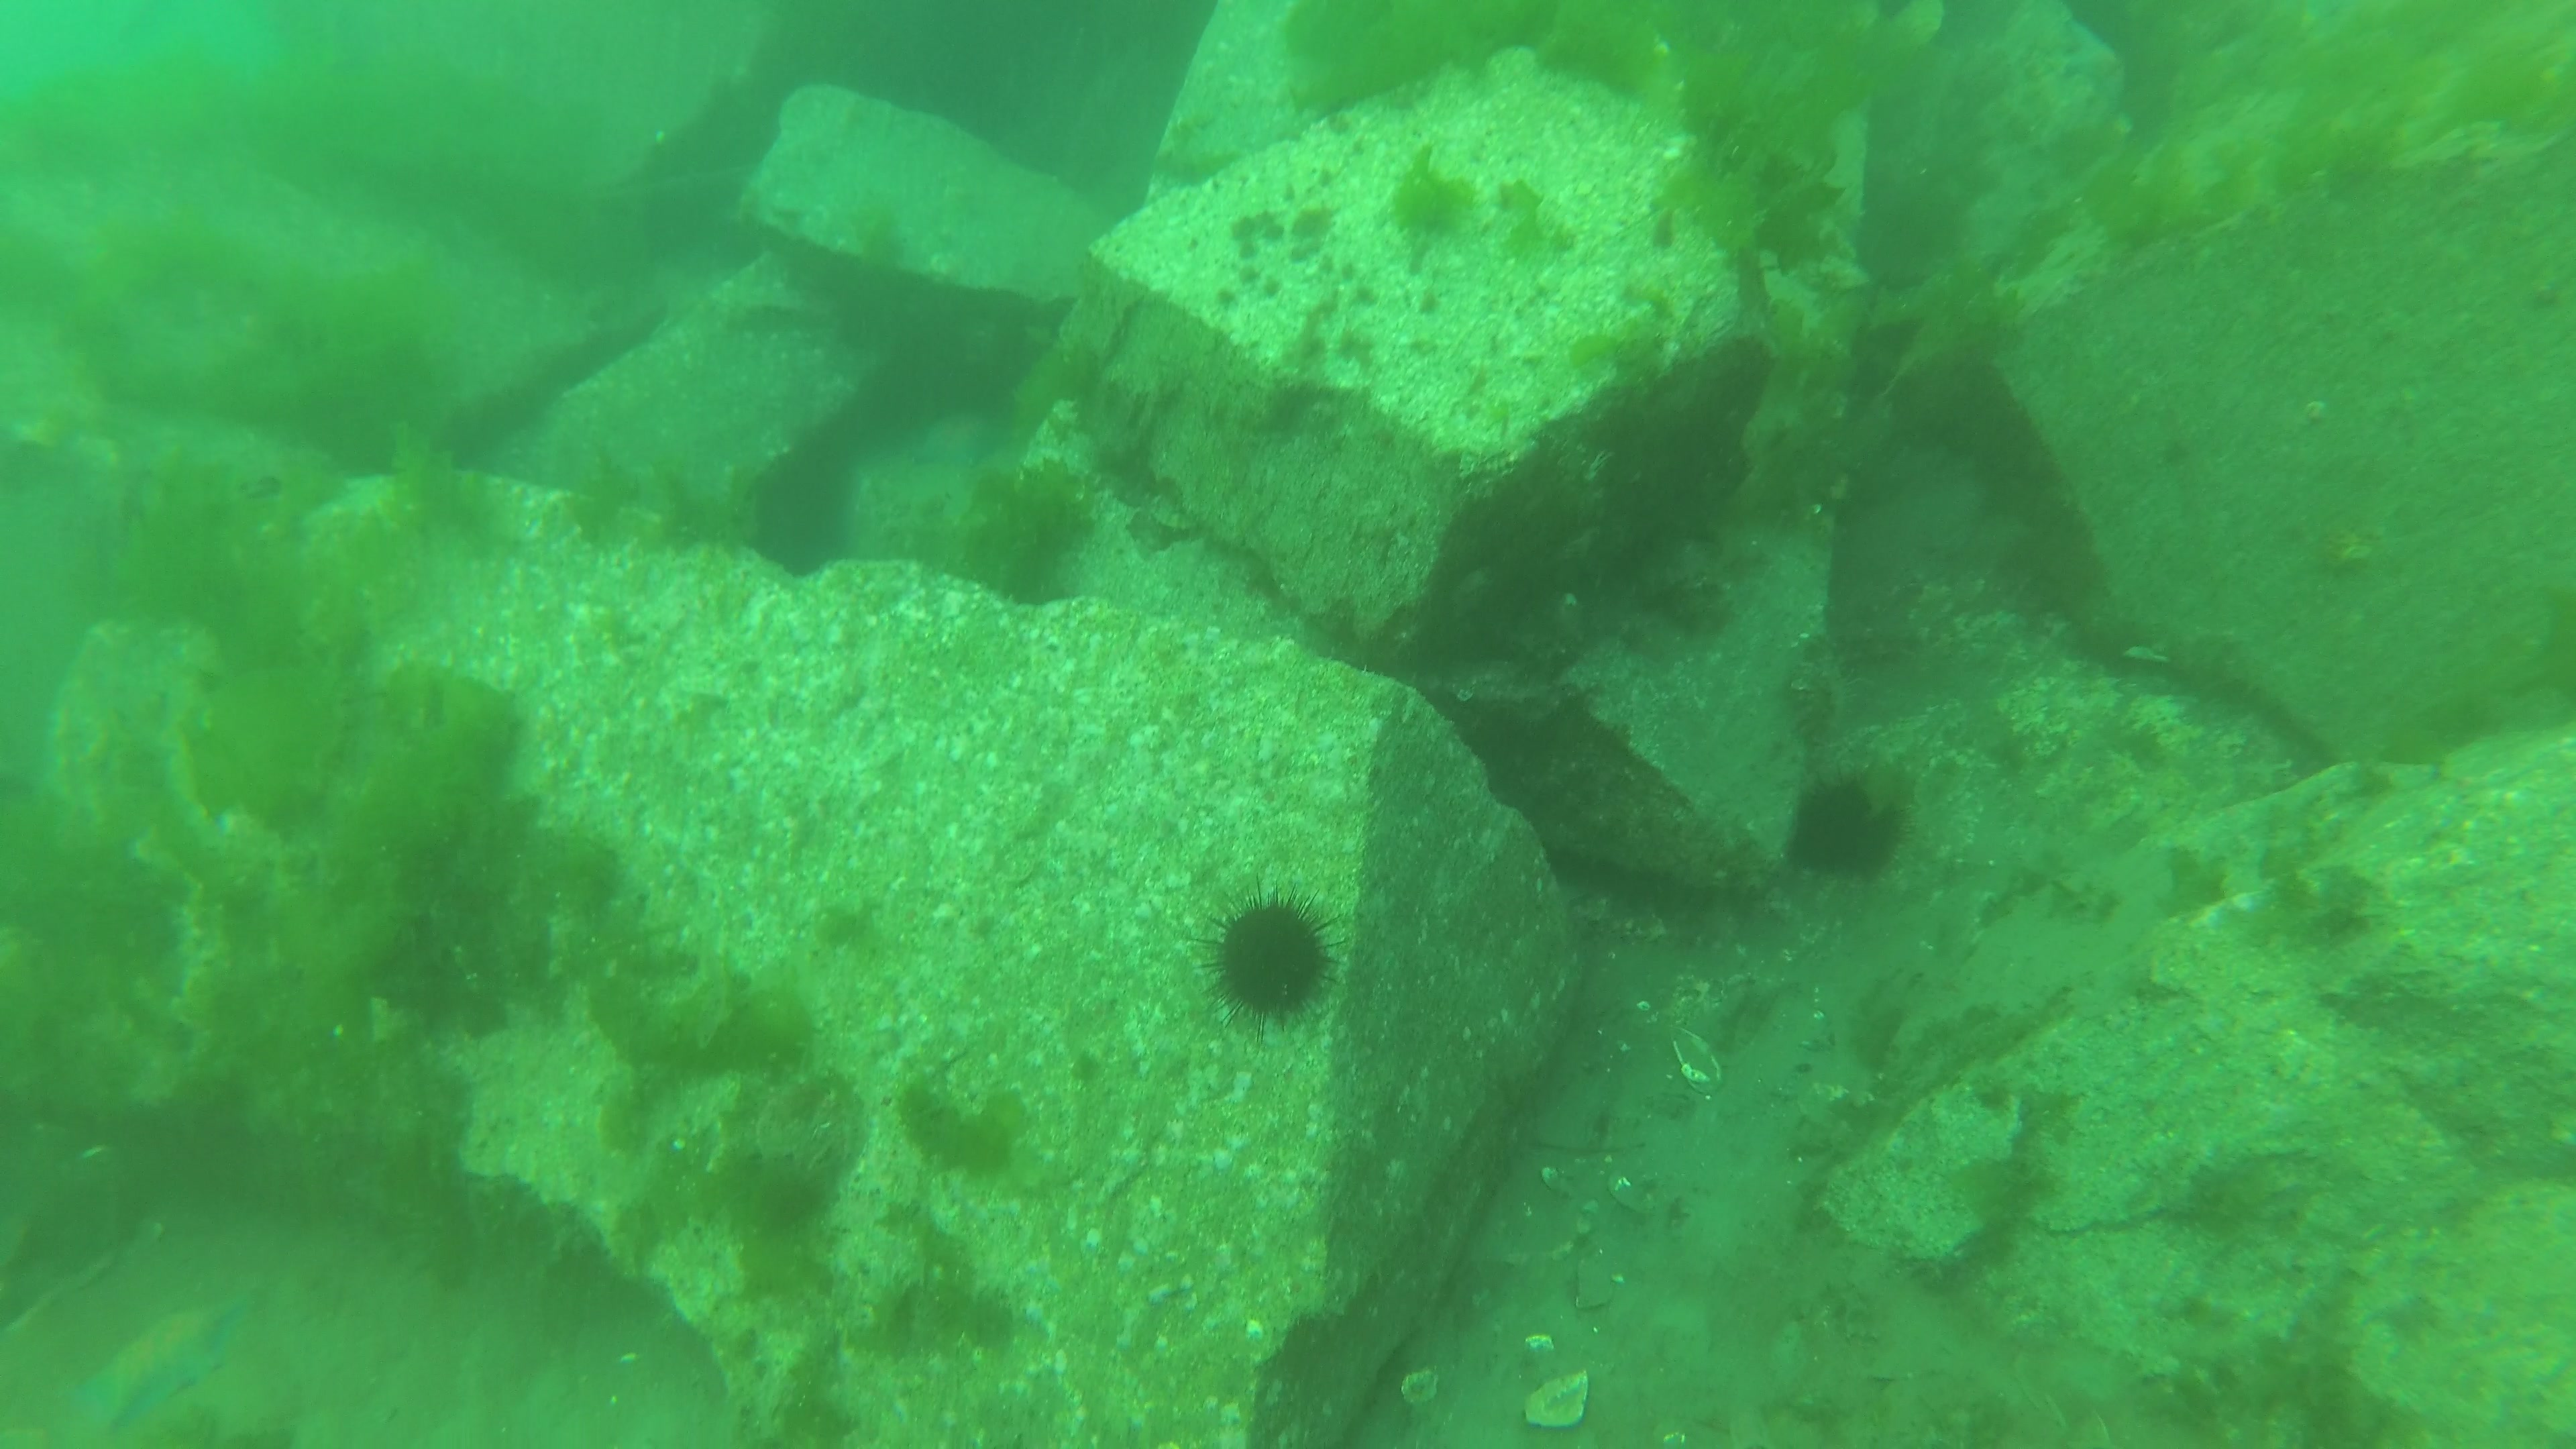echinus: (1201, 879, 1350, 1039), (1783, 770, 1911, 888)
starfish: (65, 1311, 244, 1435), (2061, 18, 2132, 119), (904, 410, 1016, 474), (2296, 2, 2358, 51)
